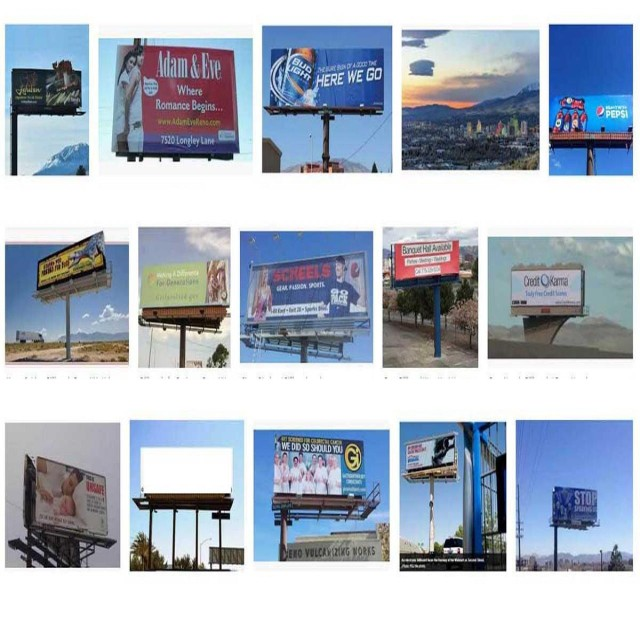pepsi: (597, 104, 607, 120)
